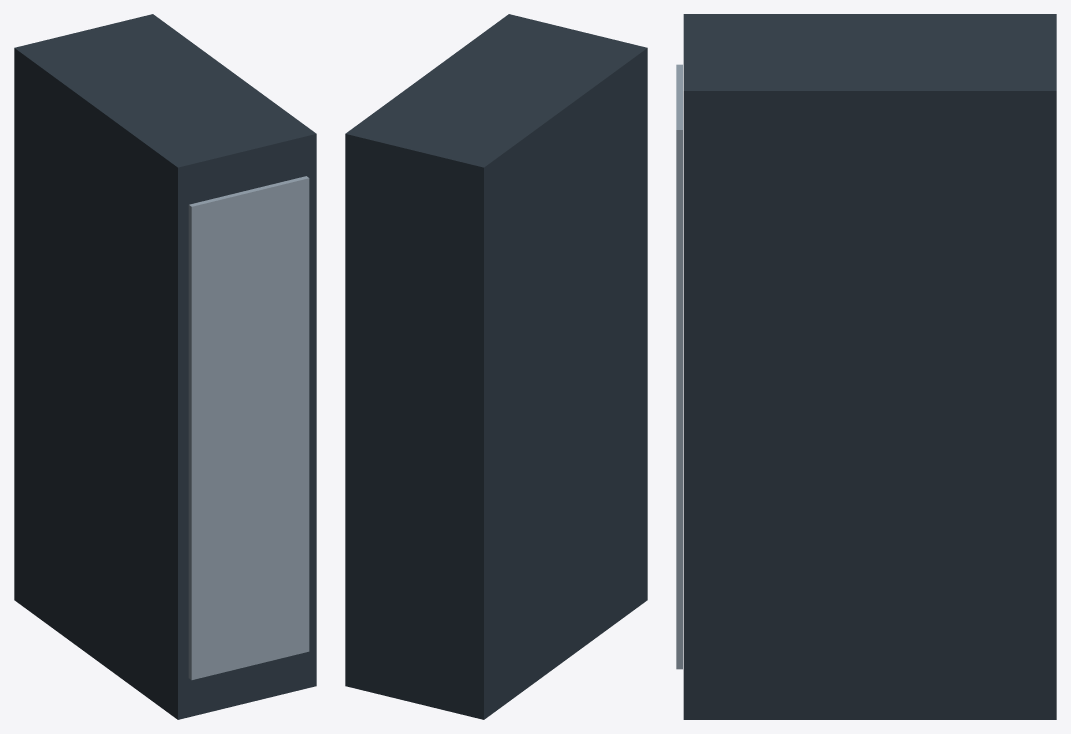
File: crah.glb
3 renders of one model, left to right at view 1: azimuth 30°, elevation 25°; view 2: azimuth 150°, elevation 25°; view 3: azimuth 270°, elevation 25°, orthographic. The views are drawn at different scales.
Parts seen in each view (by area): view 1: Body, Front; view 2: Body; view 3: Body, Front.
Part boxes in pixels (x1,y1,x2,y2): Body: (14, 14, 316, 719); Front: (188, 176, 309, 679); Body: (345, 14, 647, 719); Body: (683, 14, 1056, 719); Front: (676, 64, 682, 669).
Bounding box in the file's own units: 0.552 × 2.1 × 1.15.
